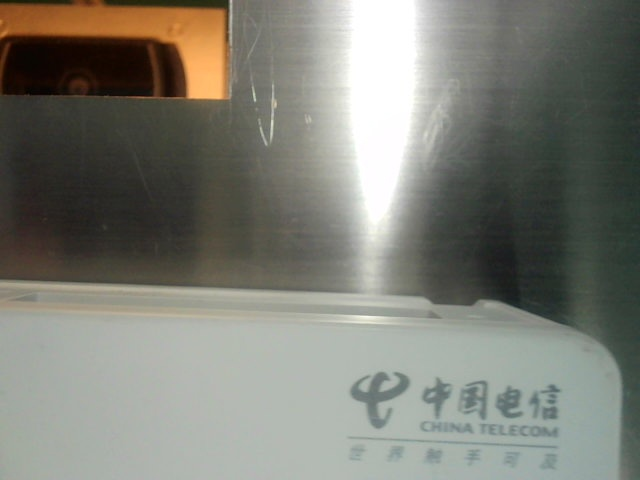AB_ChinaTelecom: (332, 362, 568, 473)
